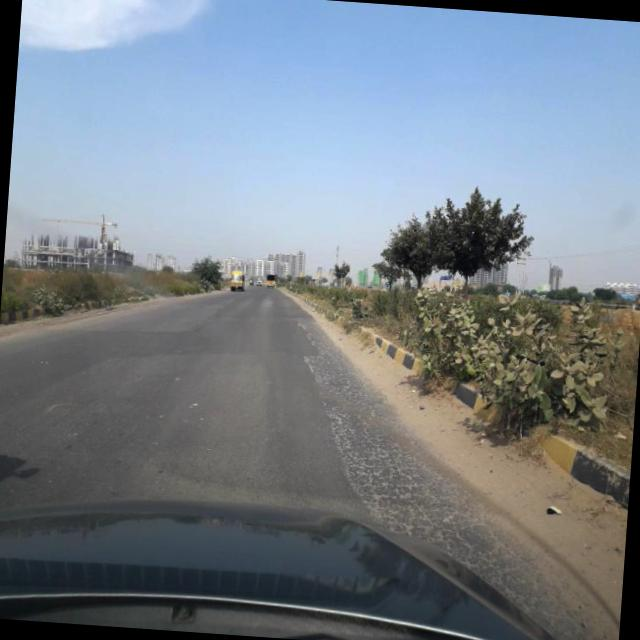crack: (301, 360, 522, 537)
